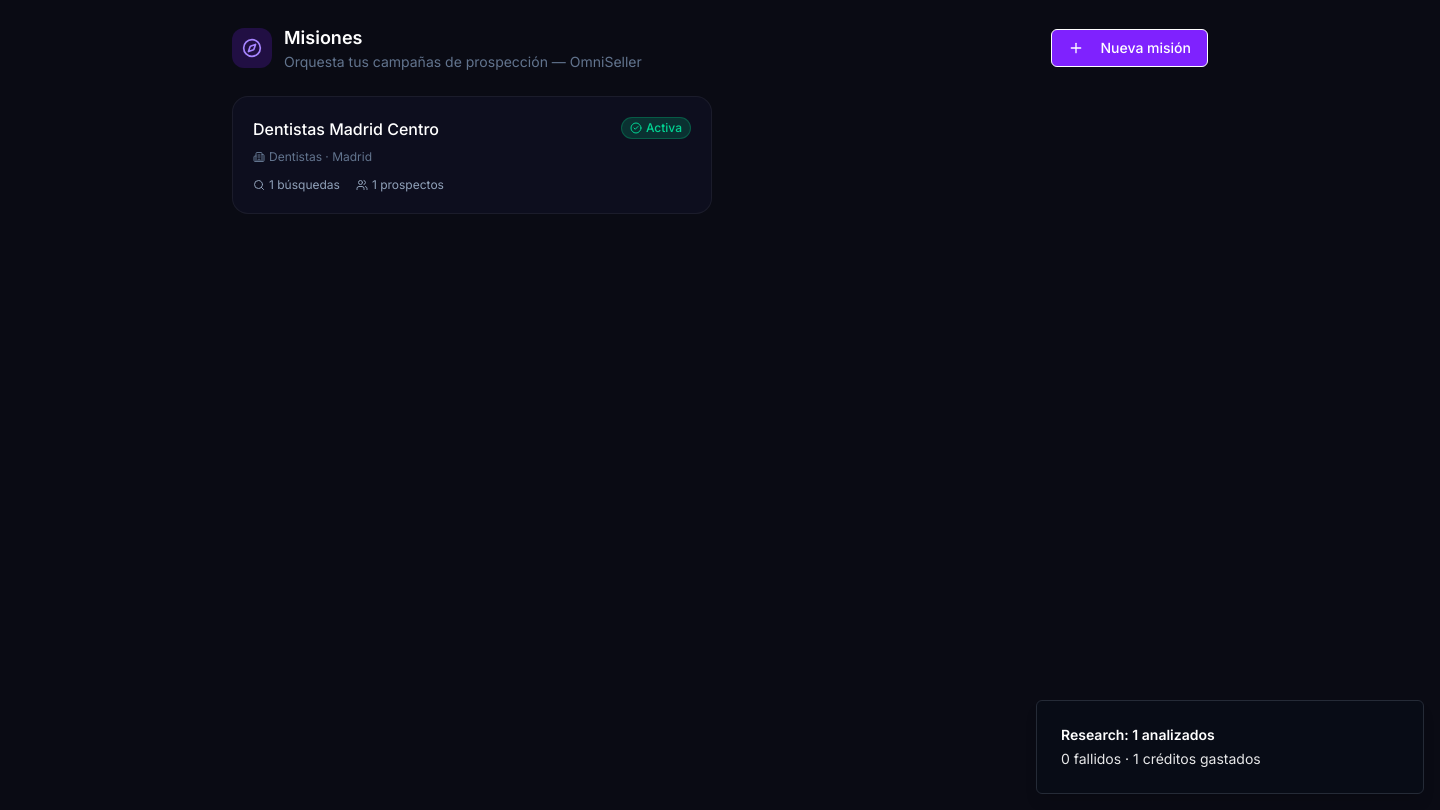
Scenario: Research › 8. error en Research muestra toast de error
The image size is (1440, 810).
Click the text "Dentistas Madrid Centro" at coordinates (346, 129), box [253, 117, 439, 141]
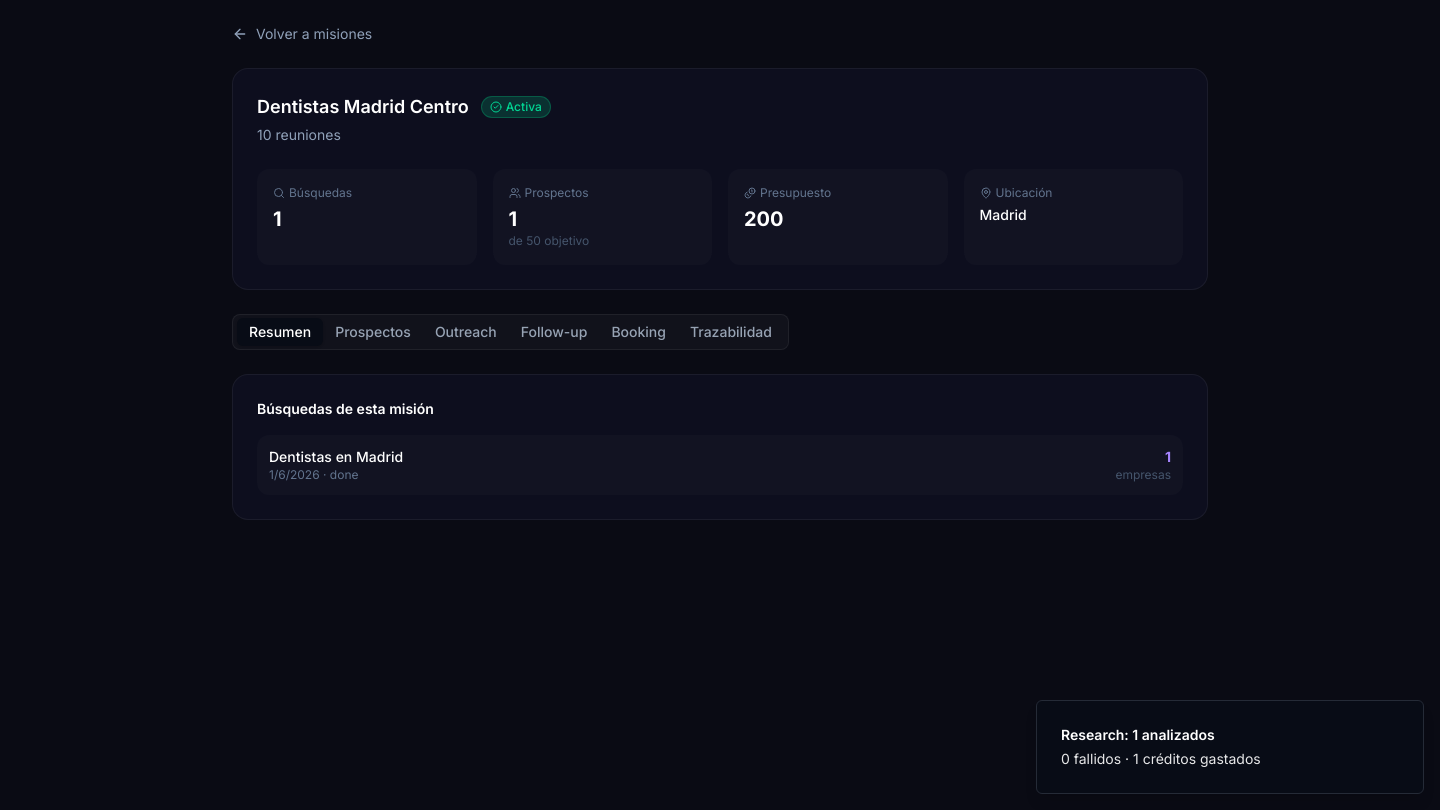
Result: the heading "Búsquedas de esta misión" is shown at [257, 400, 434, 417]
Press the mouse on the tab with test id "tab-prospectos" at coordinates (373, 332), box [323, 318, 423, 346]
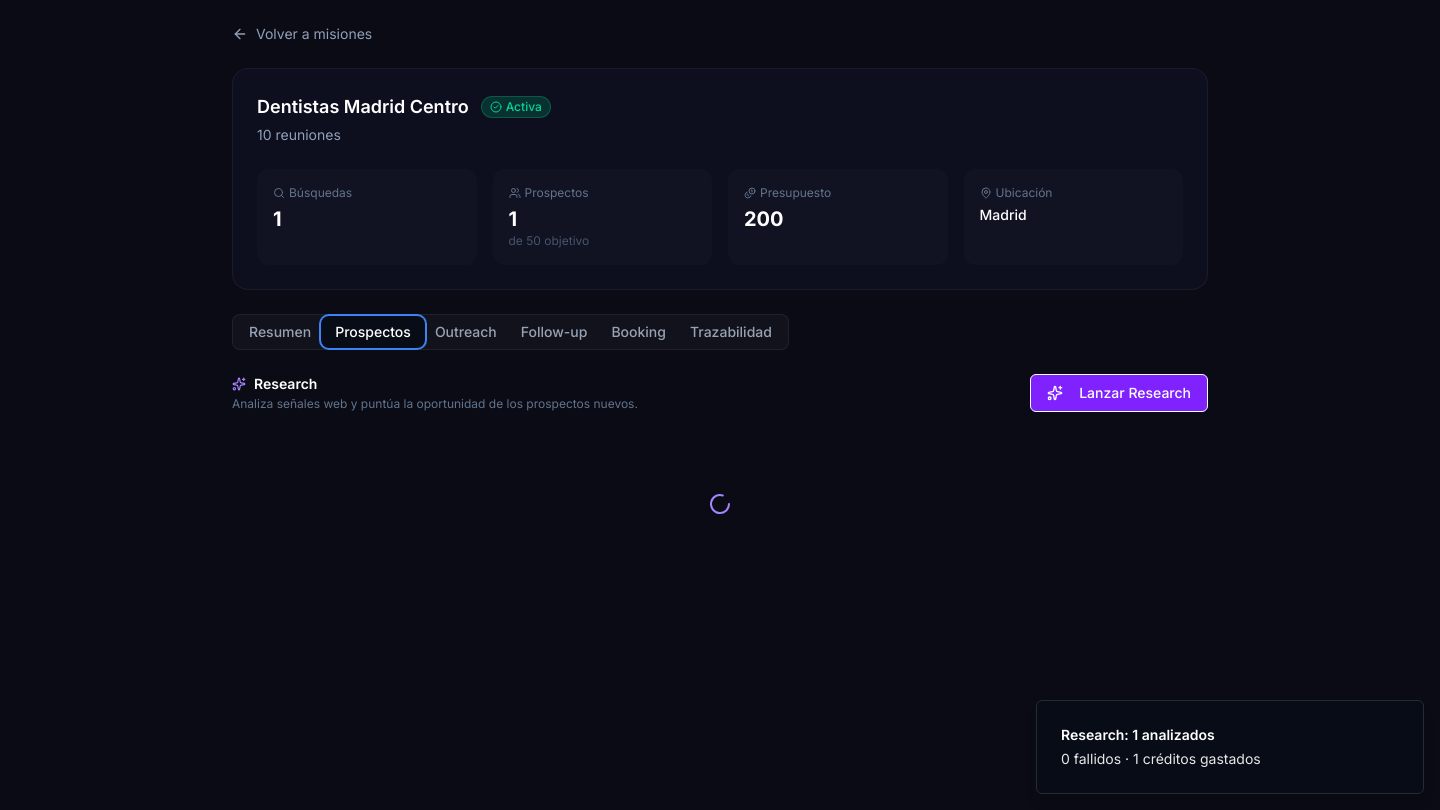
Click the button with test id "run-research-btn" at coordinates (1119, 393), box [1030, 374, 1208, 412]
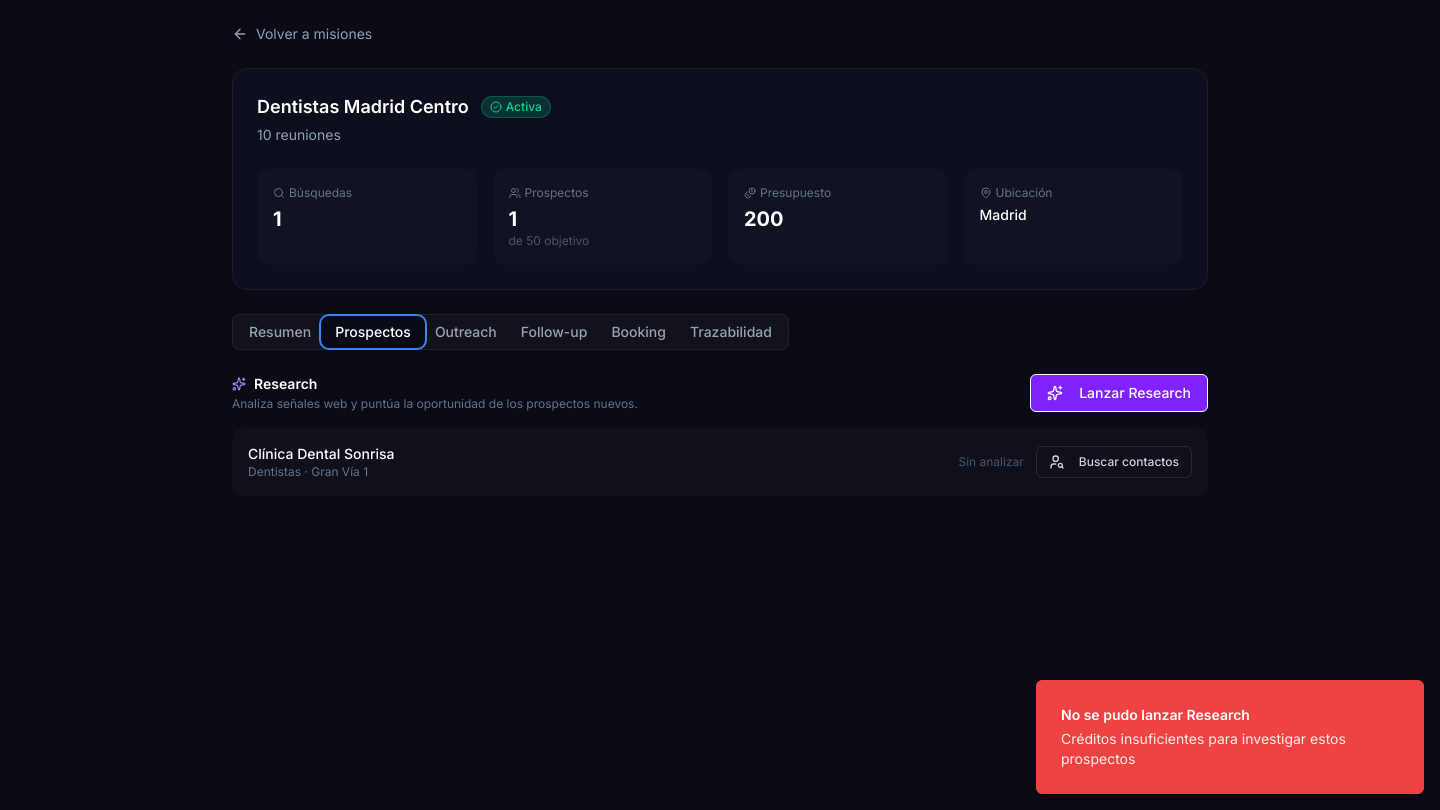
Result: the text "No se pudo lanzar Research" is shown at [1061, 706, 1250, 723]
